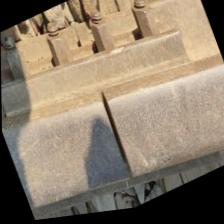person: (31, 48, 200, 221)
